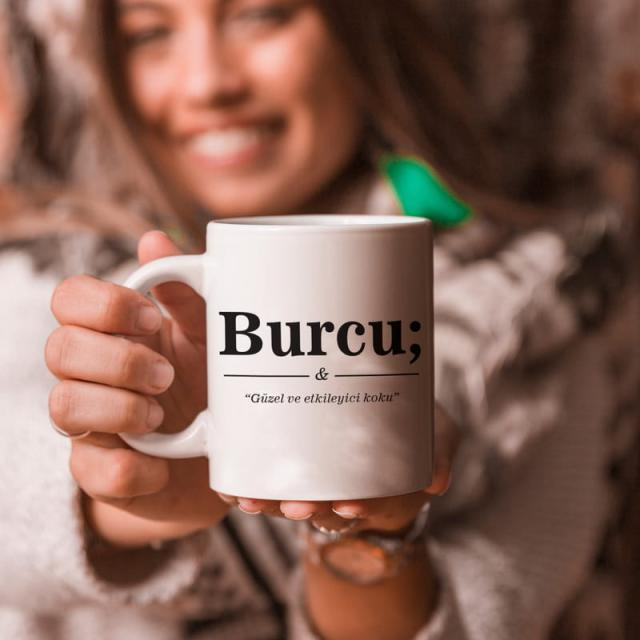Coffee Mug: (110, 212, 436, 502)
